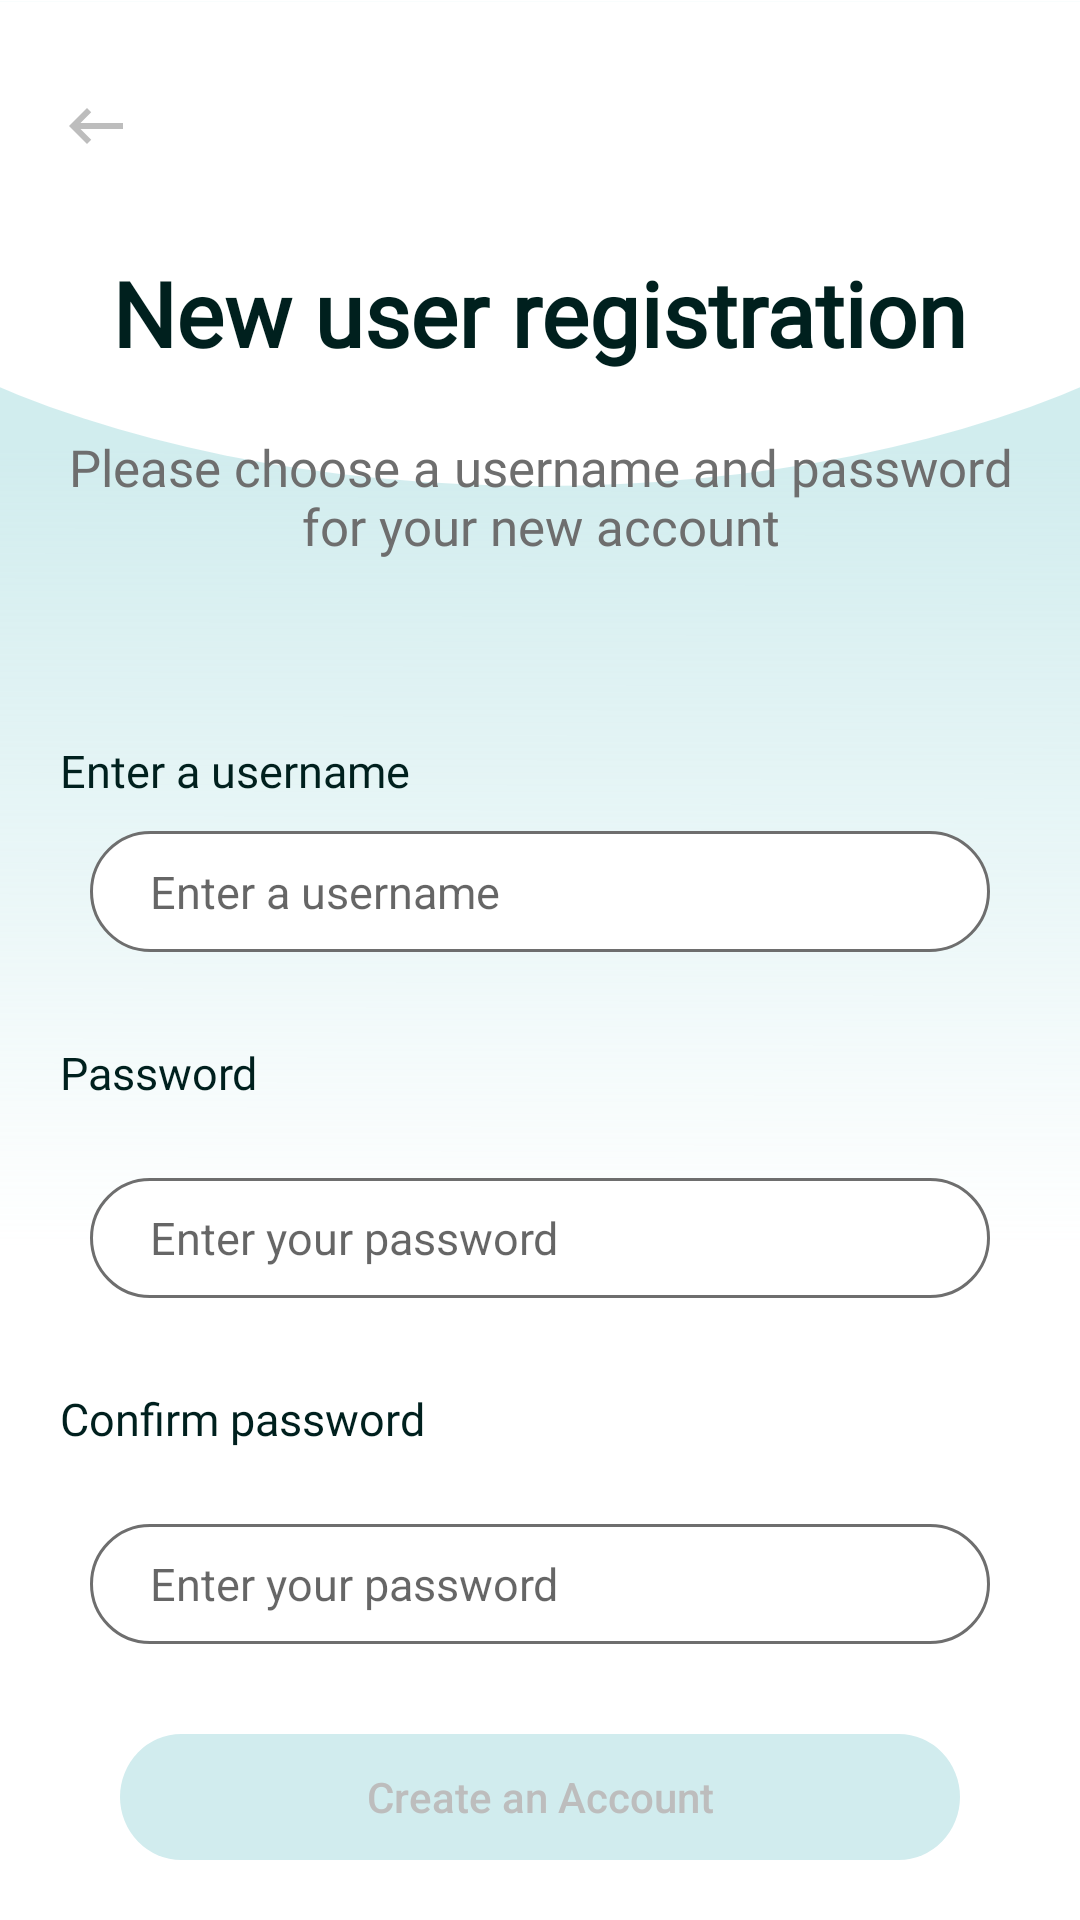

Named icons in this screenshot (1080×1920) and their bounding boxes, (x1,y1,x2,y2):
back: (69,108,123,144)
